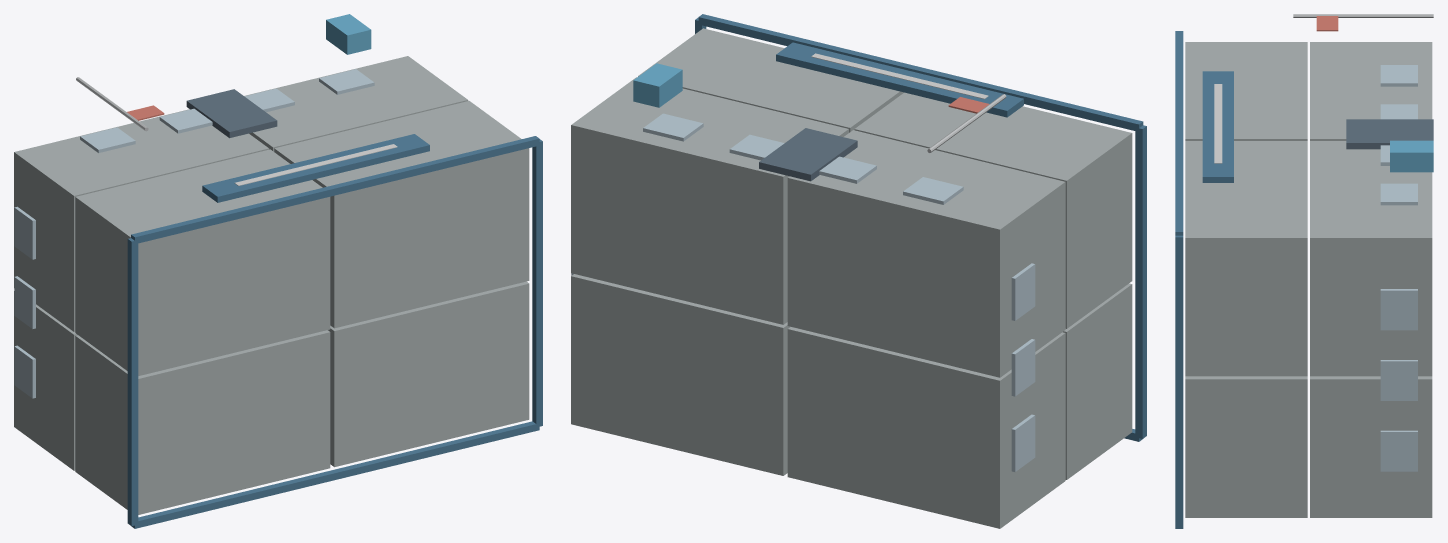
File: building-post-office.glb
The picture shows the model from 3 angles, left to right: view 1: azimuth 30°, elevation 25°; view 2: azimuth 150°, elevation 25°; view 3: azimuth 270°, elevation 25°; orthographic projection. The views are drawn at different scales.
Parts seen in each view (by area): view 1: world; view 2: world; view 3: world.
Boxes of the visible parts, x1,y1,x2,y2 form: world: (14, 14, 542, 528); world: (571, 14, 1146, 528); world: (1175, 14, 1433, 528).
Size of the model in its own units: 15.5 by 12.32 by 8.27.
